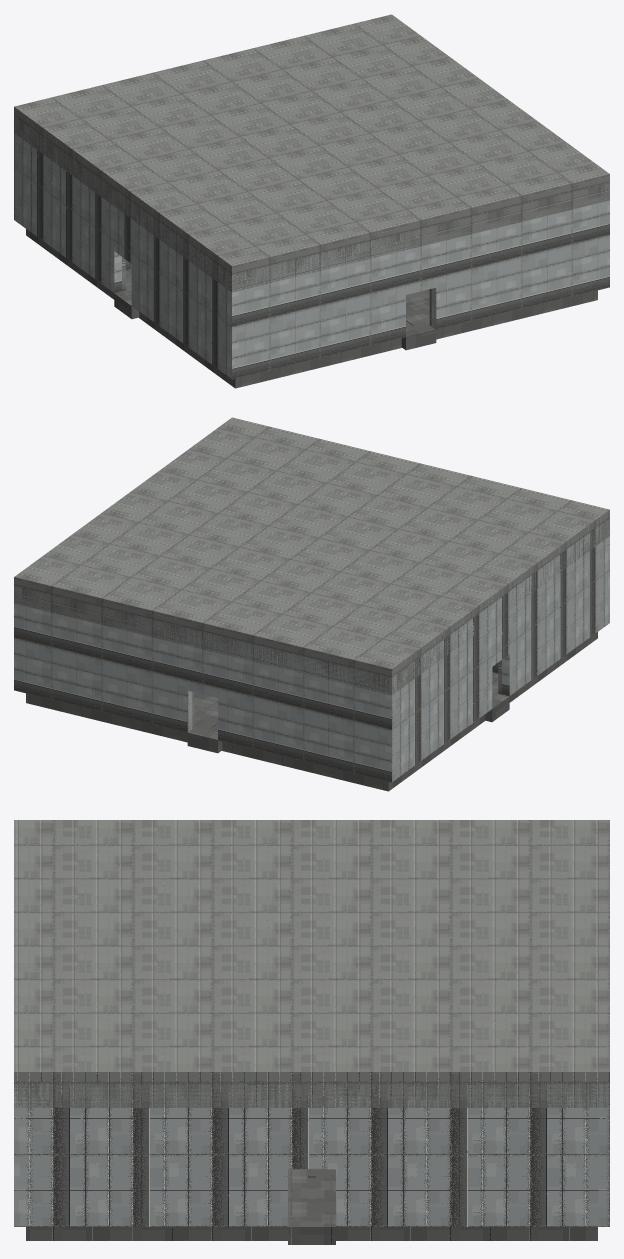
Rendered from shell_junction_cross.glb.
The picture shows the model from 3 angles, top to bottom: view 1: azimuth 30°, elevation 25°; view 2: azimuth 150°, elevation 25°; view 3: azimuth 270°, elevation 25°; orthographic projection. The views are drawn at different scales.
Visible parts, largest first — view 1: crs; view 2: crs; view 3: crs.
Boxes of the visible parts, x1,y1,x2,y2 form: crs: (14,14,609,388); crs: (14,417,609,791); crs: (14,820,609,1244).
Size of what is drawn, in the model's own units: 30 by 9.66 by 30.
Materials: 5 (5 with a texture image).
